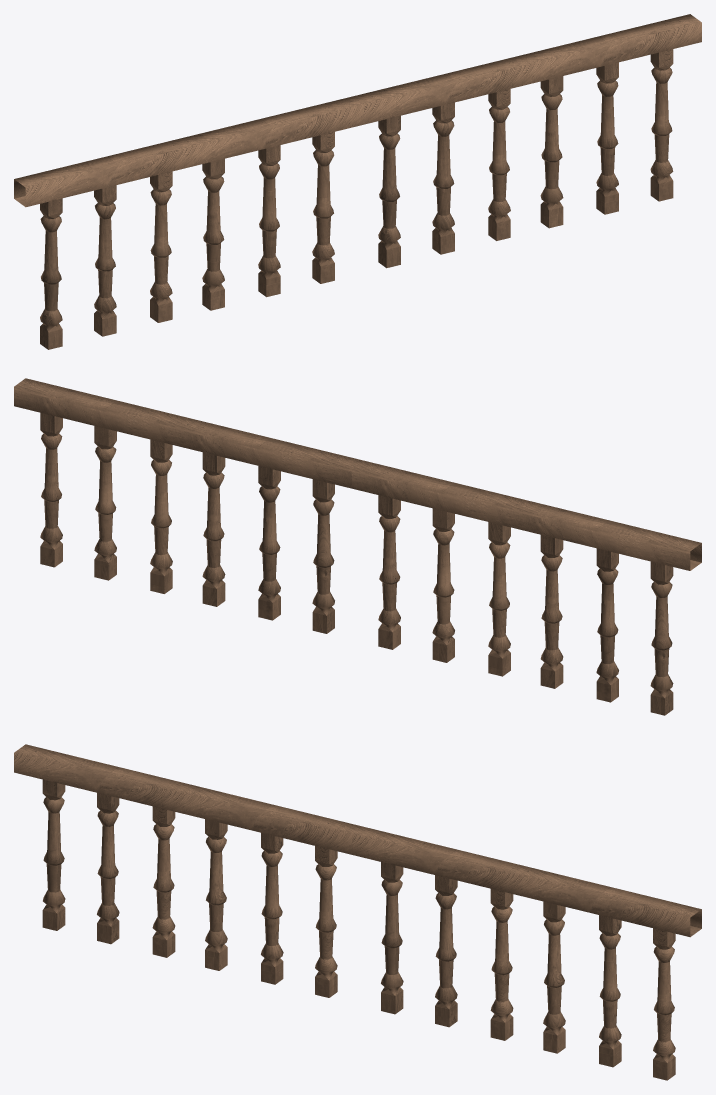
File: RailingInt2A.fbx
3 views of the same model, one above another, from view 1: azimuth 30°, elevation 25°; view 2: azimuth 150°, elevation 25°; view 3: azimuth 330°, elevation 25° (orthographic).
Parts seen in each view (by area): view 1: RailingInt2A; view 2: RailingInt2A; view 3: RailingInt2A.
Part boxes in pixels (x1,y1,x2,y2): RailingInt2A: [14, 14, 701, 349]; RailingInt2A: [14, 378, 701, 715]; RailingInt2A: [14, 744, 701, 1080].
Bounding box in the file's own units: 400 × 97.04 × 13.62.
